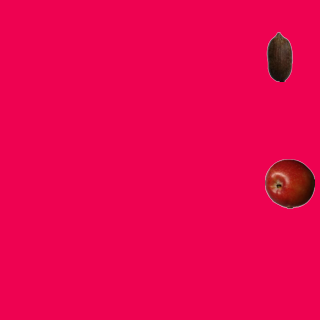Apple Braeburn: (264, 158, 314, 208)
Nut Pecan: (254, 31, 304, 81)
